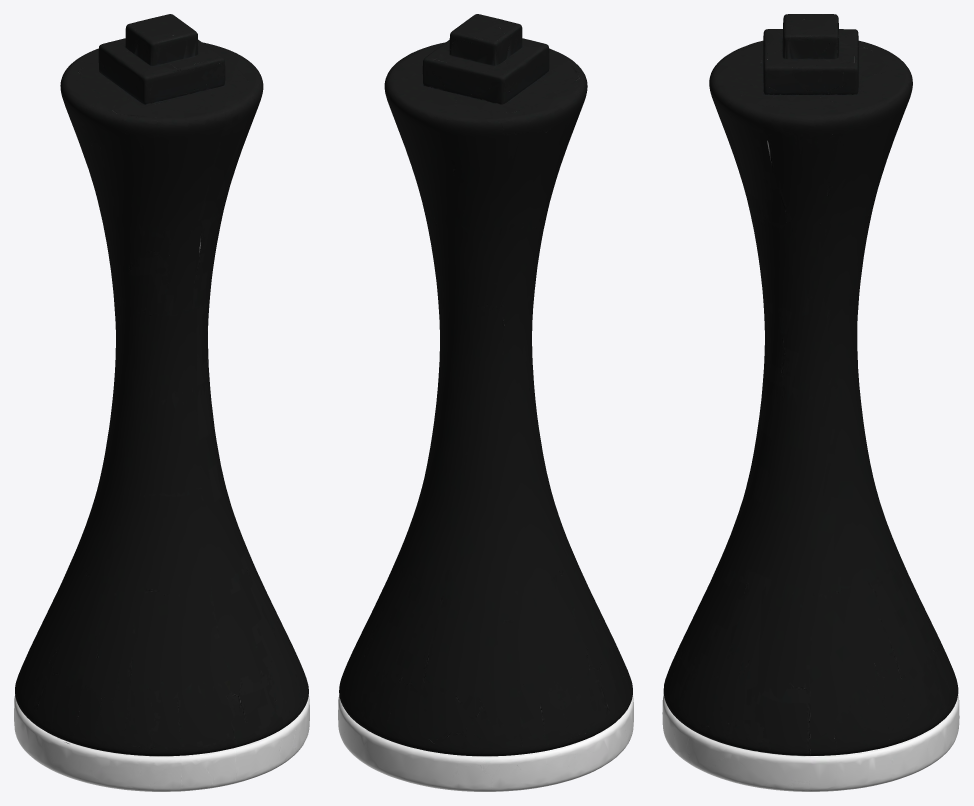
The model's file is king-black-hd.glb.
The picture shows the model from 3 angles, left to right: view 1: azimuth 30°, elevation 25°; view 2: azimuth 150°, elevation 25°; view 3: azimuth 270°, elevation 25°; orthographic projection.
Bounding box in the file's own units: 0.5895 × 1.55 × 0.5893.
1 material, 1 textured.
